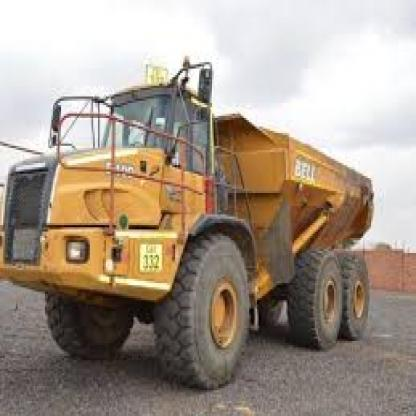dump_truck: (5, 49, 376, 394)
